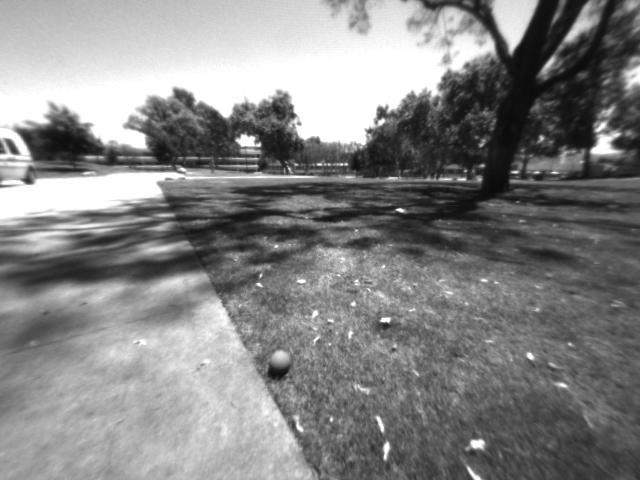dogtoy: (261, 340, 296, 380)
